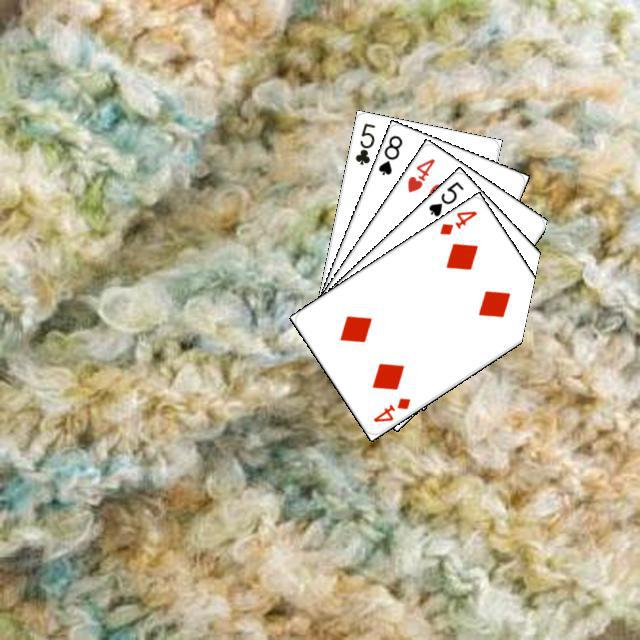4d: (435, 206, 479, 237), (368, 393, 412, 424)
4h: (402, 153, 437, 194)
5c: (350, 118, 377, 167)
5s: (424, 176, 466, 218)
8s: (373, 130, 404, 177)
